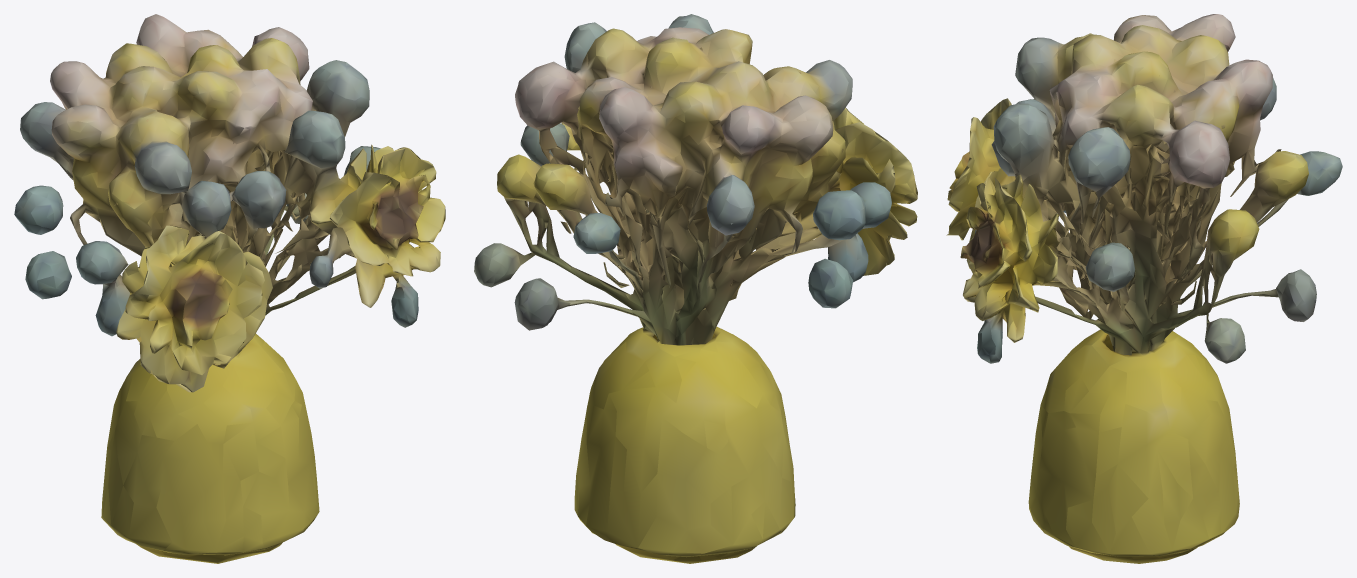
Rendered from 0001_mask_002_yellow_vase_with_flowers.glb.
3 renders of one model, left to right at view 1: azimuth 30°, elevation 25°; view 2: azimuth 150°, elevation 25°; view 3: azimuth 270°, elevation 25°, orthographic. The views are drawn at different scales.
Parts seen in each view (by area): view 1: mask_002_object; view 2: mask_002_object; view 3: mask_002_object.
Boxes of the visible parts, bbox=[...] form: mask_002_object: bbox=[14, 14, 445, 563]; mask_002_object: bbox=[474, 14, 917, 563]; mask_002_object: bbox=[946, 14, 1342, 563].
Bounding box in the file's own units: 0.3333 × 0.4253 × 0.317.
